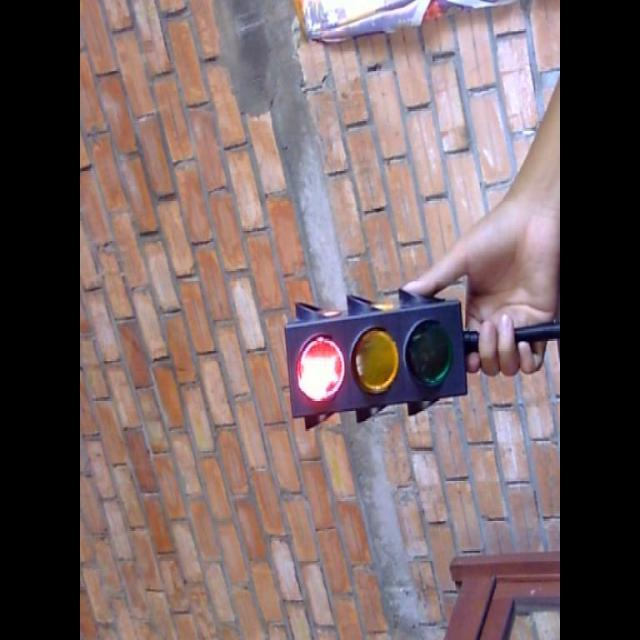red light: (292, 318, 350, 411)
